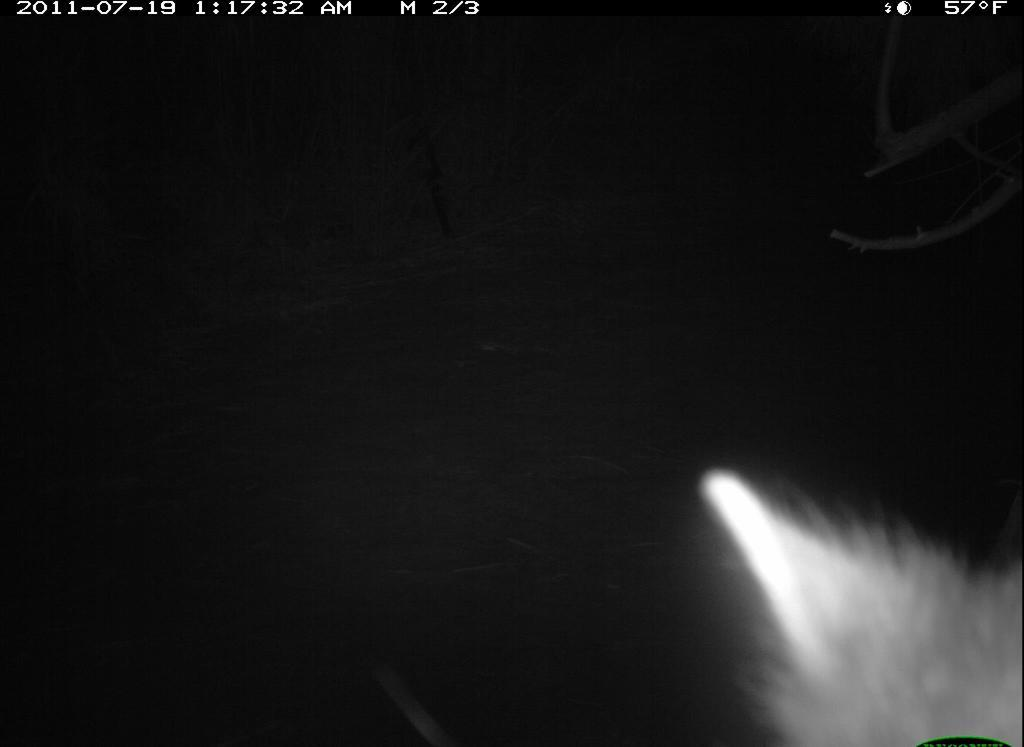raccoon: (673, 441, 1022, 747)
